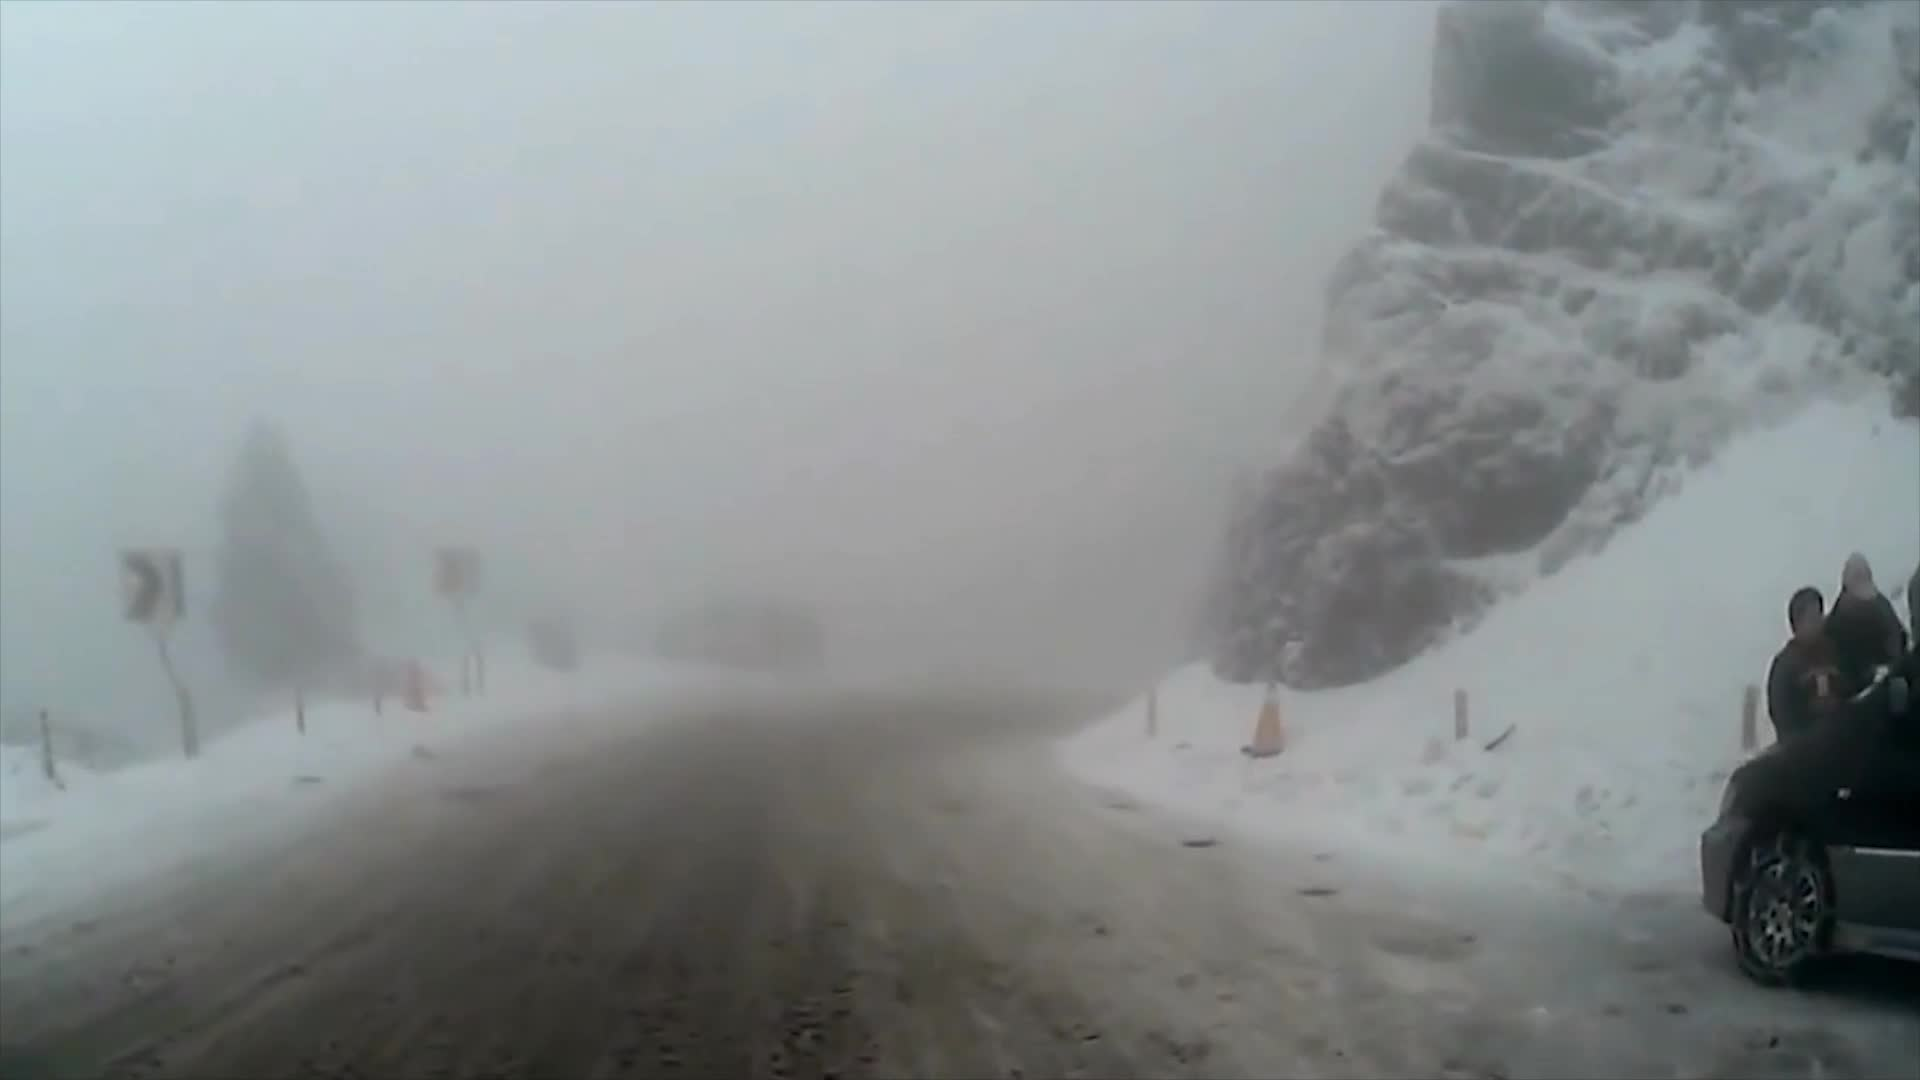pedestrian: (1766, 589, 1868, 911), (1826, 552, 1906, 849)
vehicle: (1697, 645, 1919, 990)
